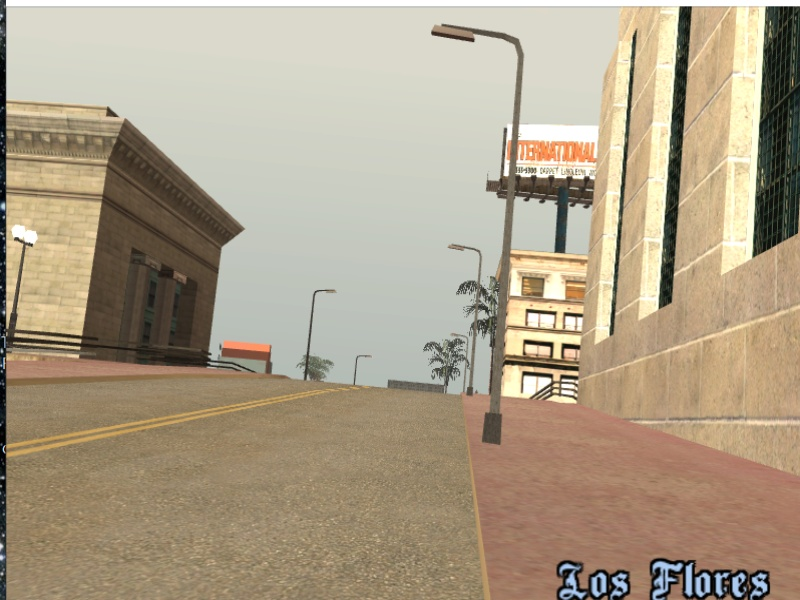pole: (494, 39, 518, 450), (466, 250, 479, 396)
